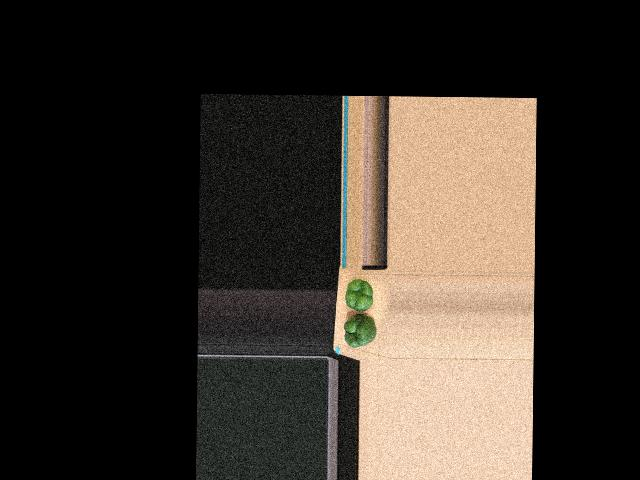bell_pepper: (344, 279, 377, 312)
